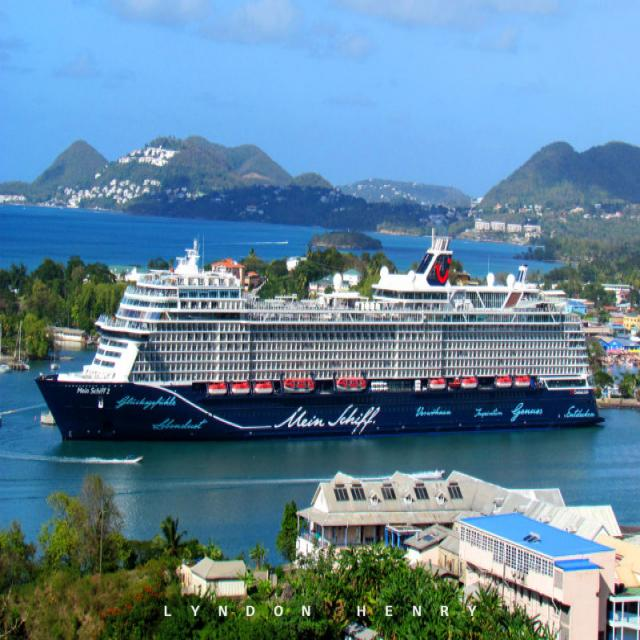cruises: (30, 240, 607, 437)
